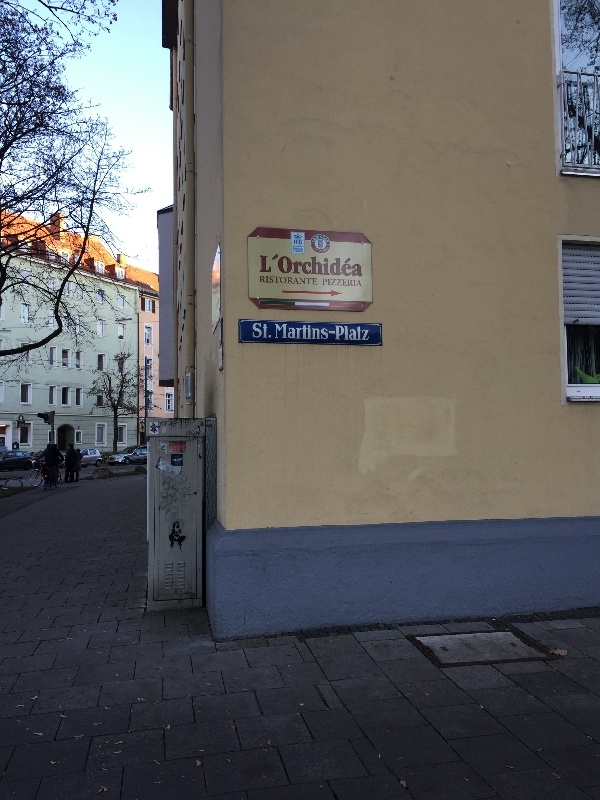text: (273, 253, 288, 278), (289, 253, 304, 278), (305, 253, 320, 278), (321, 253, 336, 278), (337, 253, 352, 278), (353, 323, 369, 342), (260, 253, 272, 278), (289, 323, 304, 342), (305, 323, 320, 342), (321, 323, 336, 342), (337, 323, 352, 342), (353, 253, 363, 278), (275, 323, 288, 342), (257, 323, 272, 339), (273, 276, 288, 286), (289, 276, 304, 286), (337, 278, 352, 287), (305, 276, 318, 286), (322, 278, 336, 287), (260, 276, 272, 286), (161, 421, 177, 428), (353, 278, 363, 287), (293, 246, 304, 253), (321, 236, 329, 244), (294, 239, 304, 245), (313, 236, 320, 244), (321, 246, 329, 253), (253, 323, 256, 339), (314, 246, 320, 253), (187, 430, 192, 436), (299, 240, 304, 245), (188, 437, 192, 441), (193, 437, 197, 441), (193, 430, 195, 436), (159, 421, 160, 428)
